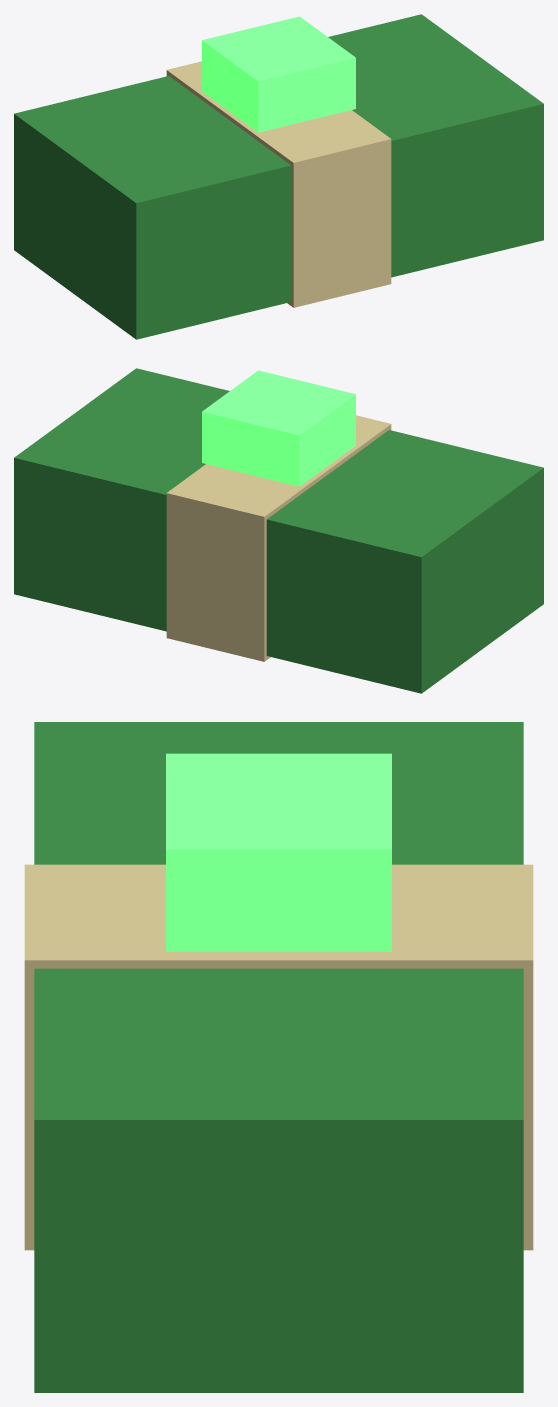
Rendered from cash.glb.
3 renders of one model, top to bottom at view 1: azimuth 30°, elevation 25°; view 2: azimuth 150°, elevation 25°; view 3: azimuth 270°, elevation 25°, orthographic. The views are drawn at different scales.
Parts seen in each view (by area): view 1: cash; view 2: cash; view 3: cash.
Boxes of the visible parts, x1=… form: cash: x1=14, y1=14, x2=543, y2=339; cash: x1=14, y1=368, x2=543, y2=693; cash: x1=24, y1=722, x2=533, y2=1392.
Bounding box in the file's own units: 0.5 × 0.235 × 0.27.
